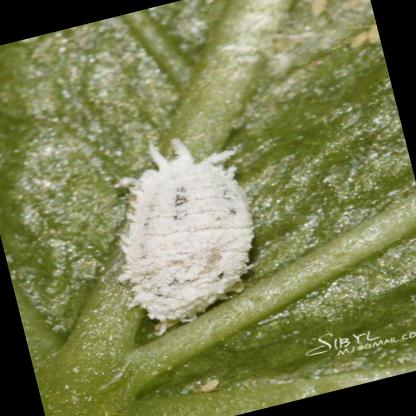mealy bug: (115, 140, 259, 339)
